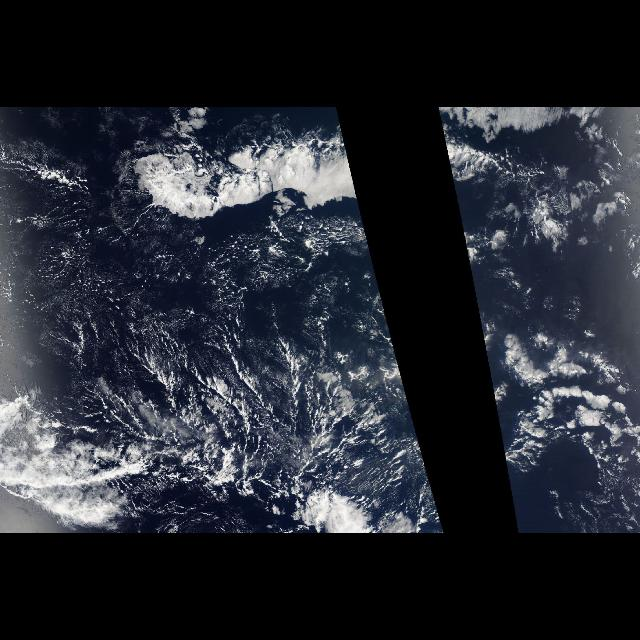Fish: (0, 304, 446, 532), (480, 321, 630, 533)
Flower: (112, 123, 366, 217), (442, 123, 560, 217)
Sugar: (8, 246, 274, 384)
